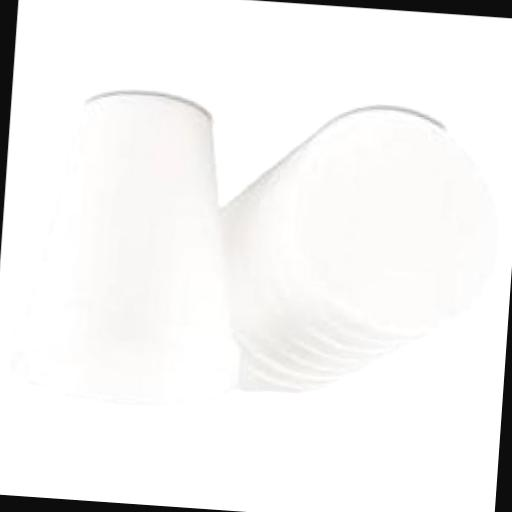paper: (200, 96, 506, 412), (6, 86, 252, 408)
